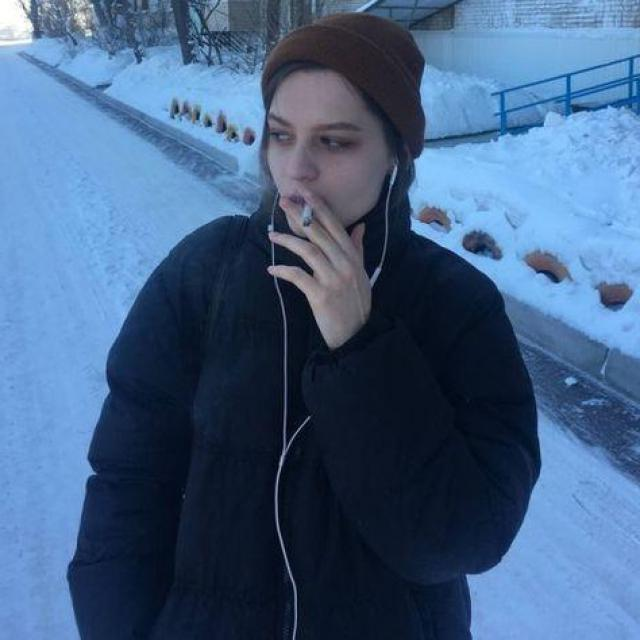cigarette: (288, 188, 326, 235)
